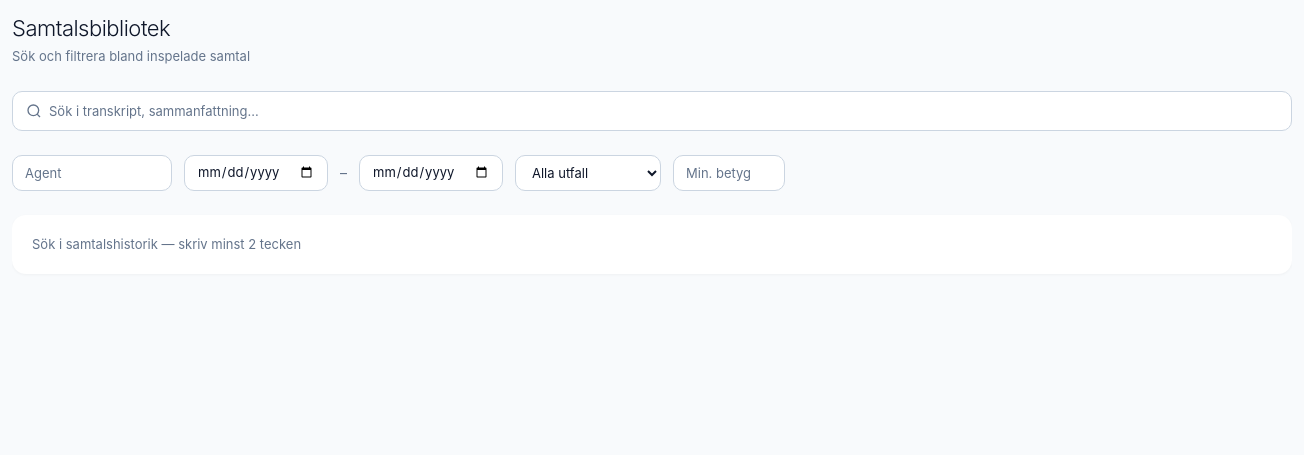
CallLibraryPage › renders highlighted snippets via dangerouslySetInnerHTML
Type "Saleflow" into the search field named "sök samtal".
click(652, 110); type("Saleflow")  # box [12,90,1292,130]
Wait 350 ms
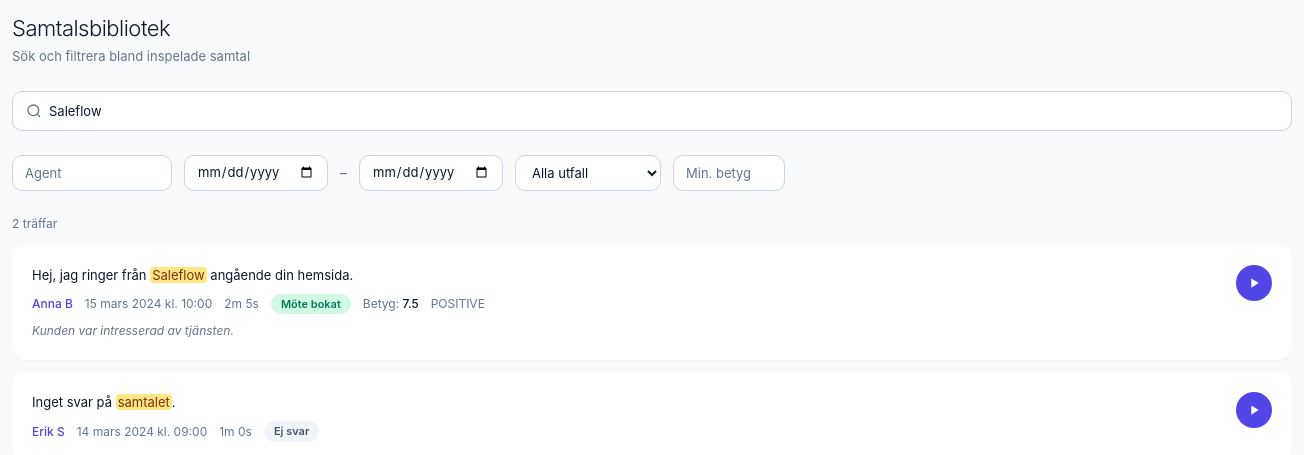
expect the text "Saleflow" is shown: met, box [150,266,207,282]
